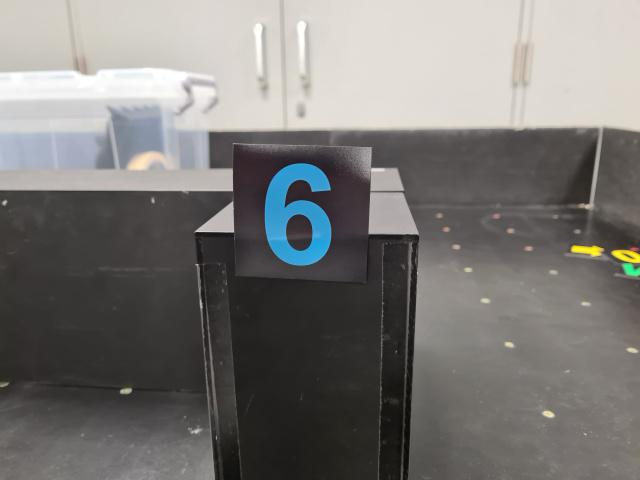six: (232, 142, 372, 284)
